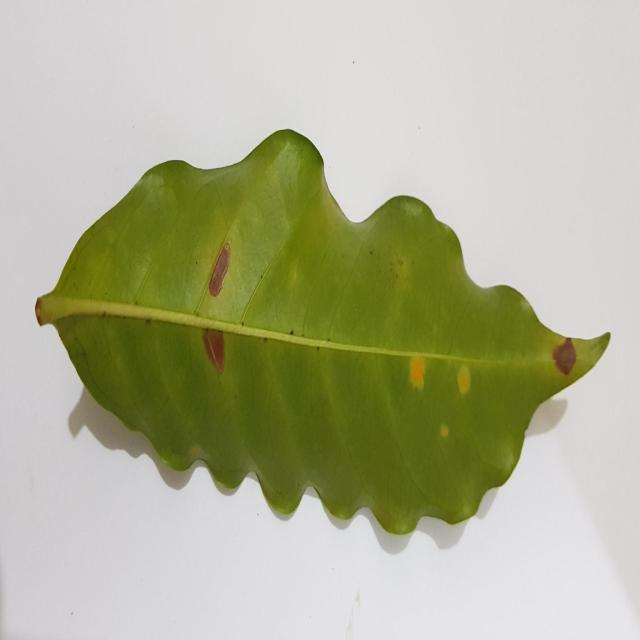miner: (208, 242, 231, 297), (202, 329, 226, 373), (552, 338, 578, 376)
rust: (409, 356, 424, 389), (457, 362, 471, 396), (438, 420, 451, 439)
